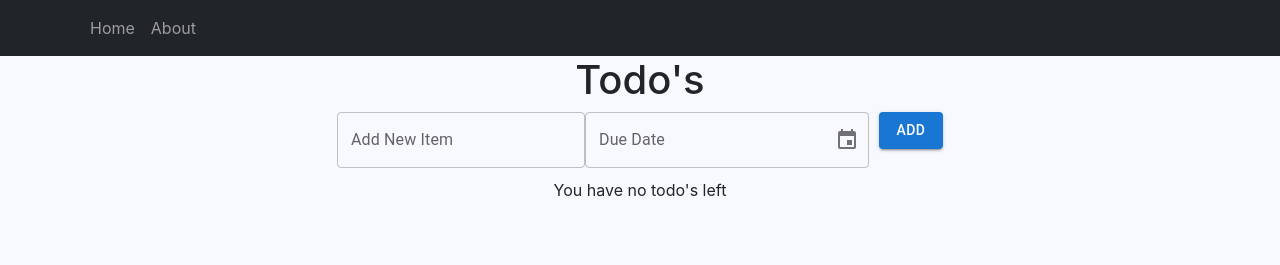
Test case: test that App component can delete a task through checkbox
// Add a task
Type "History Test" into the field labelled "Add New Item" at (461, 140), box x1=337 y1=112 x2=585 y2=168
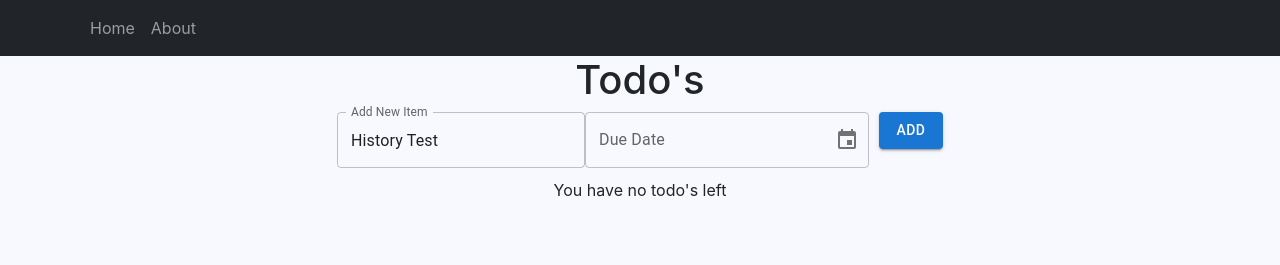
Type "05/30/2023" into the field with placeholder "mm/dd/yyyy" at (702, 140), box x1=585 y1=112 x2=819 y2=168
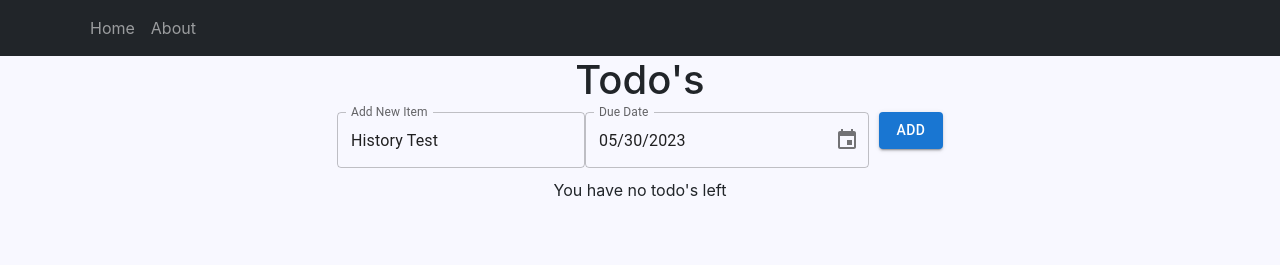
Click the button "Add" at (911, 130), box x1=879 y1=112 x2=943 y2=148
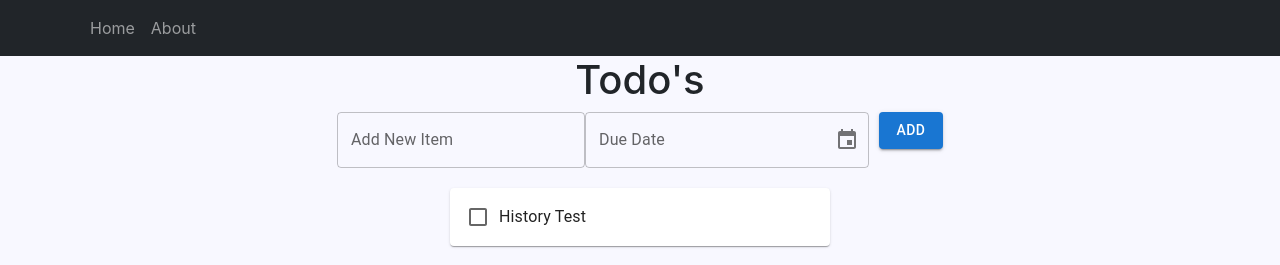
Click the checkbox at (478, 217), box x1=466 y1=205 x2=490 y2=229
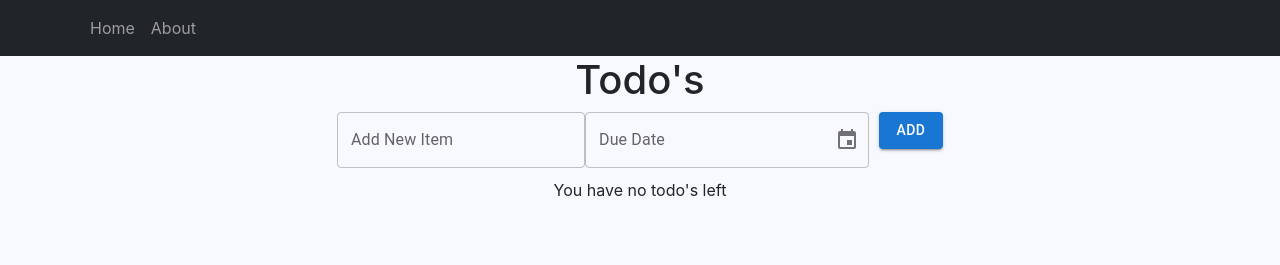
Expected: the link "History Test" is gone
